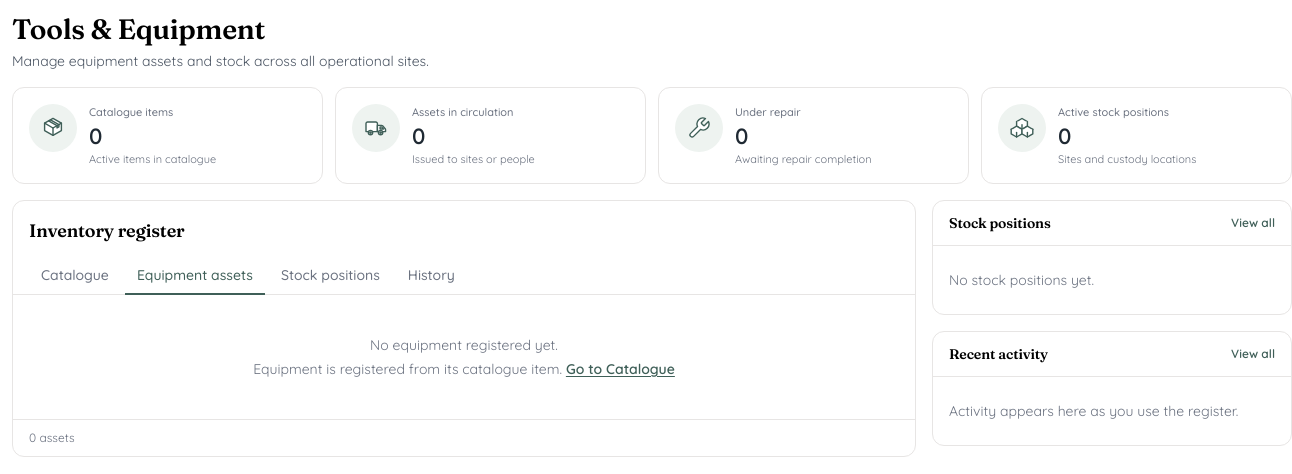
empty production state › states each tab's own empty truth
Click the button "Catalogue" at coordinates (75, 276), box [29,257,121,295]
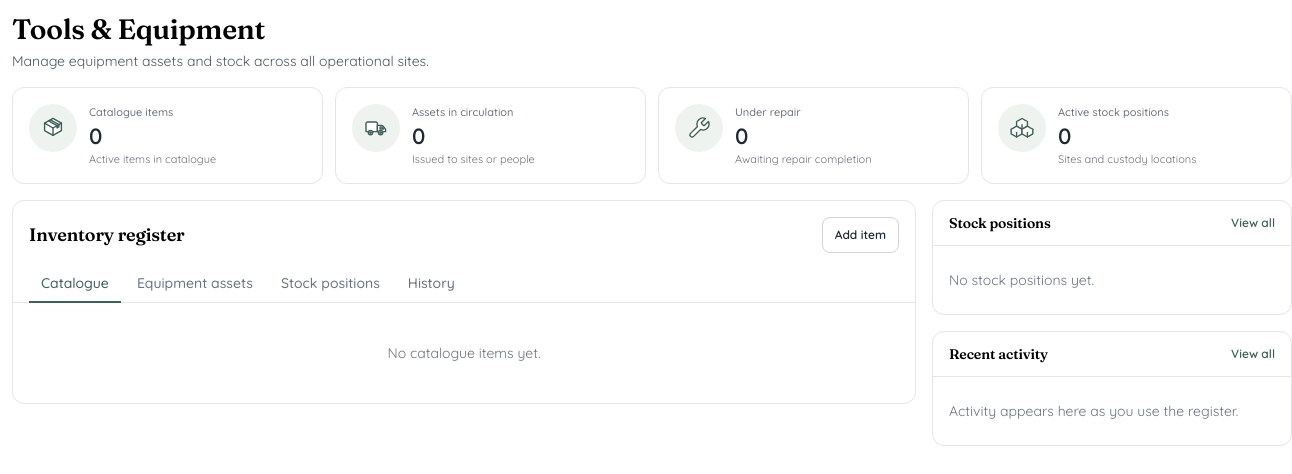
Expected: the text "No catalogue items yet." is shown, [387,344,540,362]
Click the button "Stock positions" at coordinates (330, 284), box [269,265,392,303]
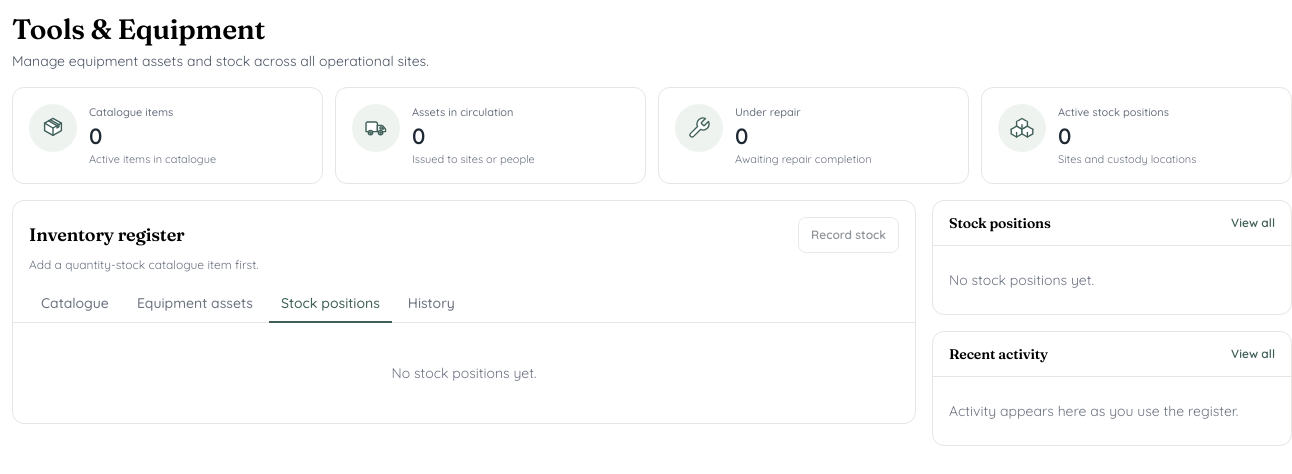
Expected: the text "No stock positions yet." below "Inventory register" is shown, [392,364,536,382]
